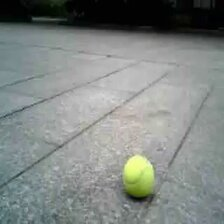tennis: (122, 157, 155, 192)
